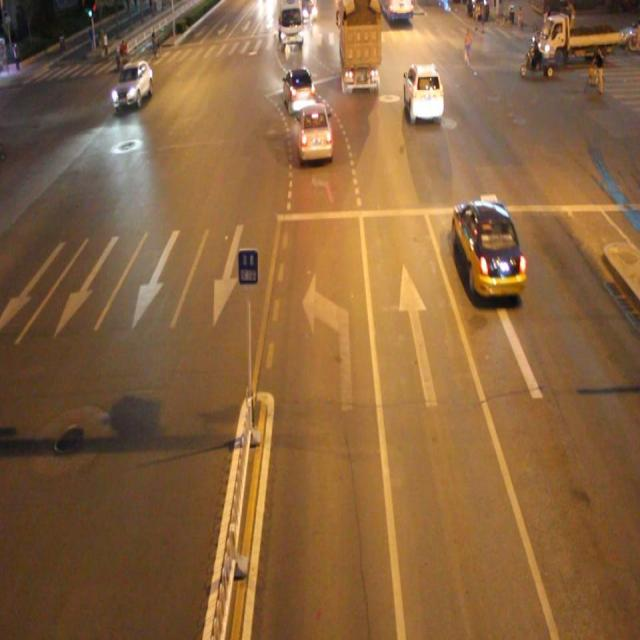car: (452, 199, 523, 299), (296, 100, 335, 163), (403, 62, 443, 122), (110, 60, 152, 111), (281, 63, 317, 116)
